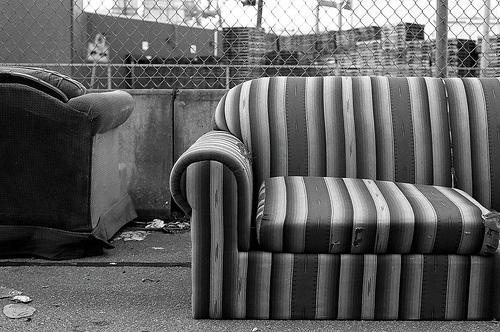sofa: (169, 76, 500, 322), (1, 66, 141, 260)
